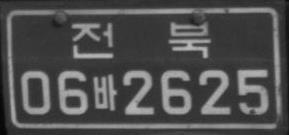0: (20, 69, 50, 115)
2: (122, 68, 155, 114), (199, 69, 232, 115)
5: (237, 68, 270, 115)
6: (56, 69, 89, 115), (161, 68, 192, 115)
바: (92, 73, 118, 111)
전북_D: (71, 21, 211, 58)
